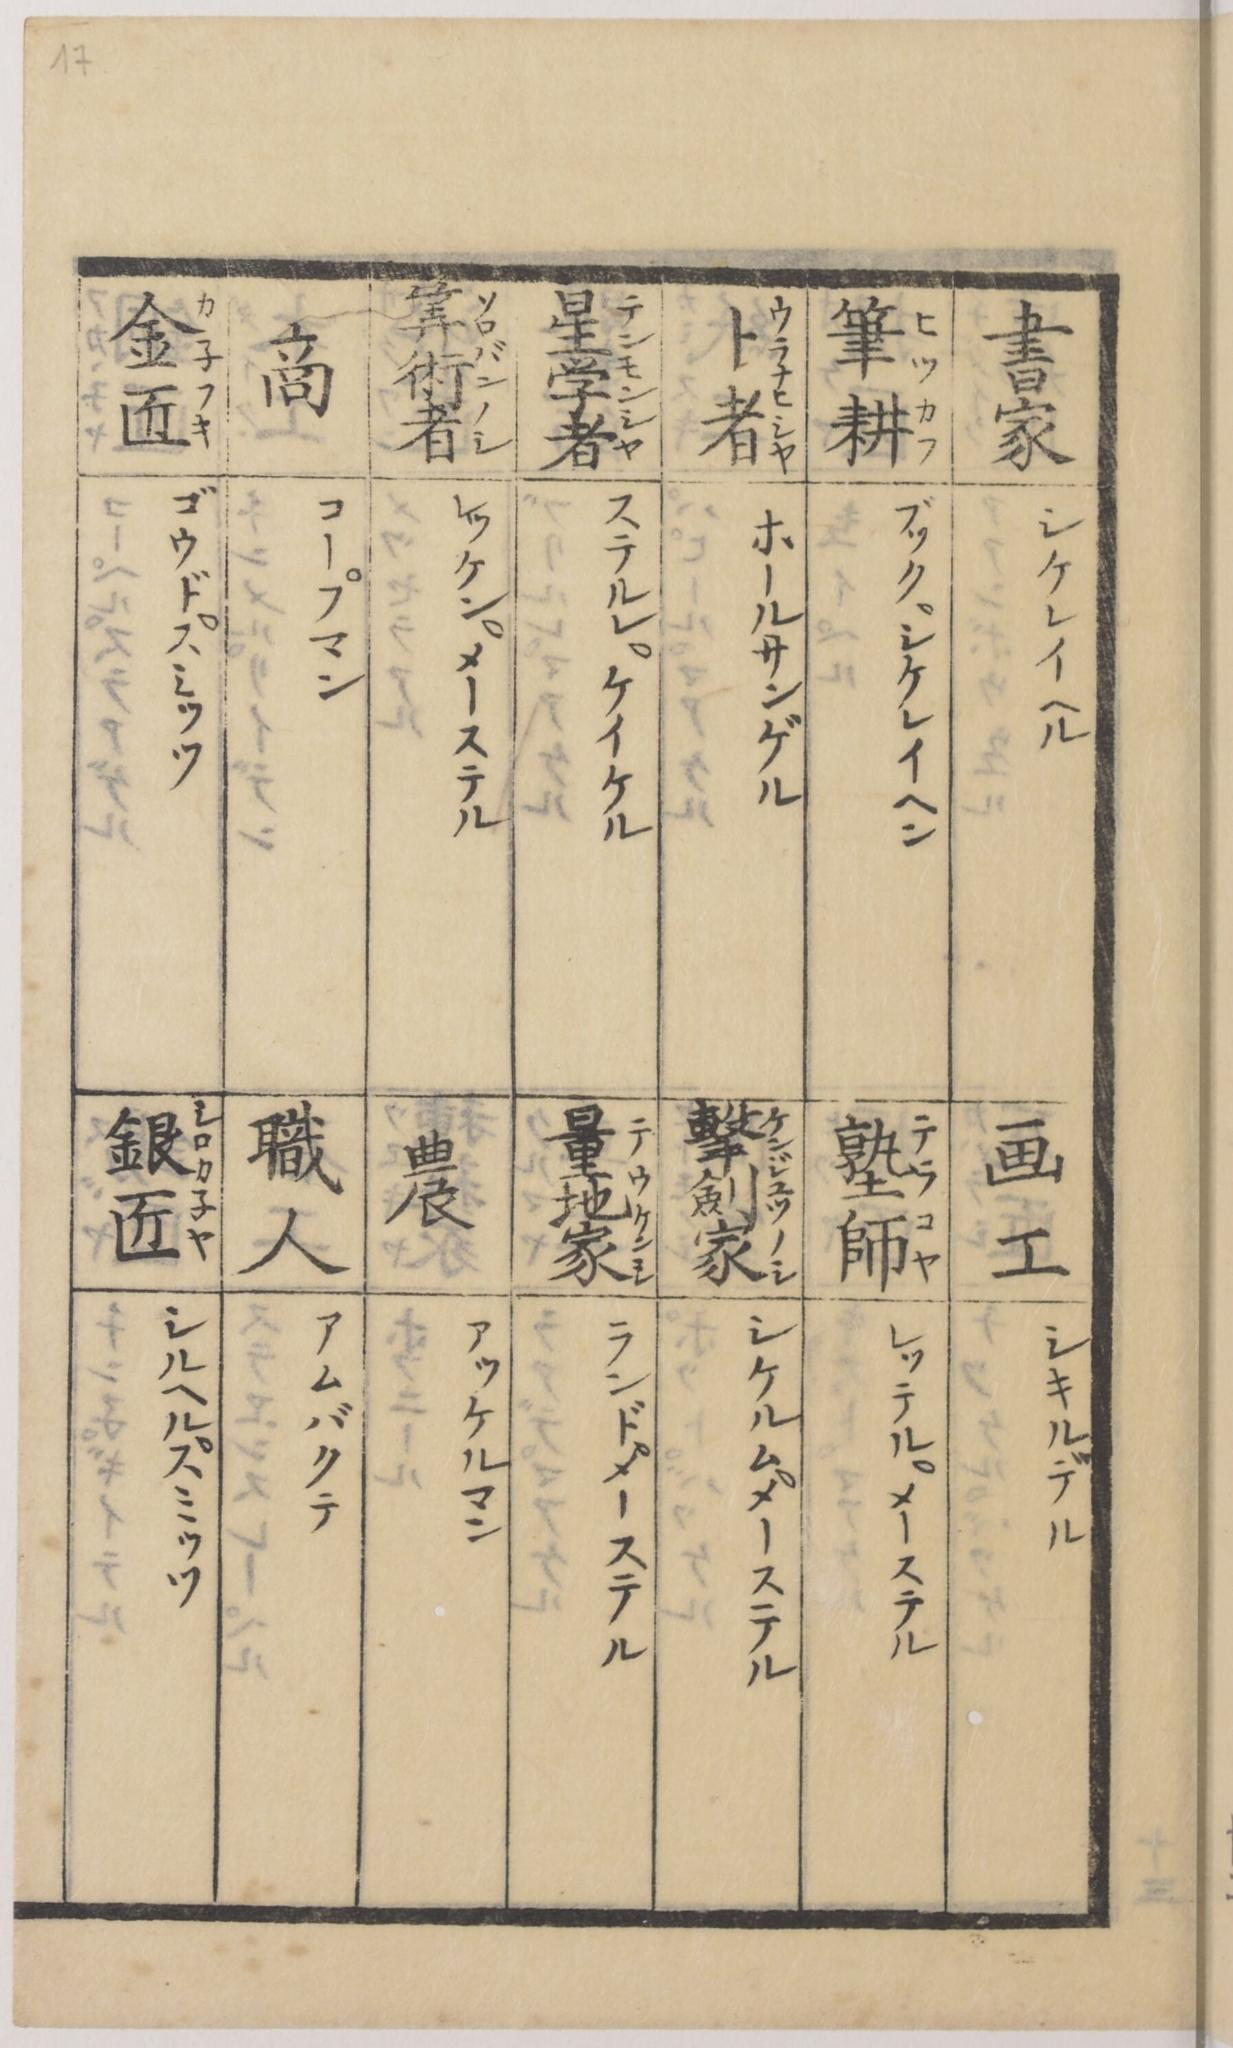MainZone-Character: (821, 389, 948, 483), (819, 294, 945, 386), (826, 1198, 949, 1287), (94, 1100, 224, 1182), (693, 385, 806, 477), (831, 1110, 945, 1200), (95, 1182, 221, 1260), (107, 374, 231, 452), (111, 297, 227, 376), (391, 407, 521, 475), (687, 1220, 807, 1295), (546, 1100, 657, 1179), (398, 339, 516, 408), (683, 1100, 804, 1166), (540, 1226, 660, 1289), (544, 410, 661, 473), (720, 291, 800, 382), (537, 1167, 657, 1227), (546, 290, 658, 353), (540, 353, 660, 411), (689, 1163, 802, 1223), (401, 279, 508, 341)
MainZone-Ruby: (611, 410, 664, 467), (766, 386, 800, 471), (190, 1100, 222, 1182), (613, 290, 657, 350), (765, 297, 796, 377), (758, 1104, 799, 1164), (190, 295, 222, 370), (911, 389, 940, 471), (908, 1112, 938, 1192), (916, 1205, 946, 1279), (610, 354, 655, 402), (470, 404, 512, 455), (761, 1166, 799, 1223), (910, 312, 940, 382), (186, 1186, 216, 1257), (766, 1224, 800, 1286), (190, 376, 219, 446), (474, 341, 510, 395), (625, 1235, 657, 1287), (470, 285, 503, 334), (625, 1169, 652, 1226), (625, 1107, 652, 1156)
